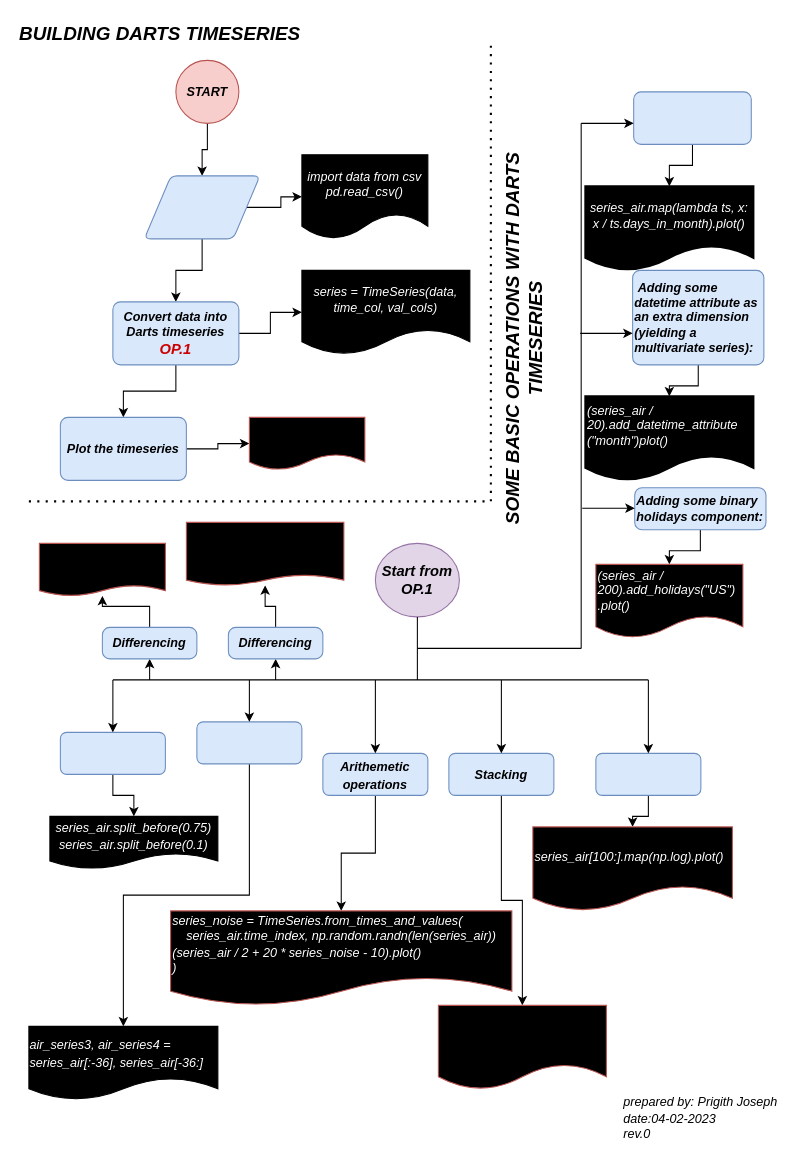
This 802x1159 diagram has some shape labels left out. The centre of each missing label's shape, as x and y in pixels:
(series_air[100:] / 50).stack(series_noise[100:]) .plot(): (x=521, y=1046)
fill_missing_values(series_) .plot(label="without missing values"): (x=264, y=553)
Import Data: (x=201, y=207)
Mapping: (x=648, y=773)
mapping on both timestamps and values:: (x=692, y=117)
Sclicing: (x=249, y=742)
series.plot(): (x=306, y=443)
series_air.diff().plot(): (x=101, y=569)
Splitting: (x=112, y=752)
